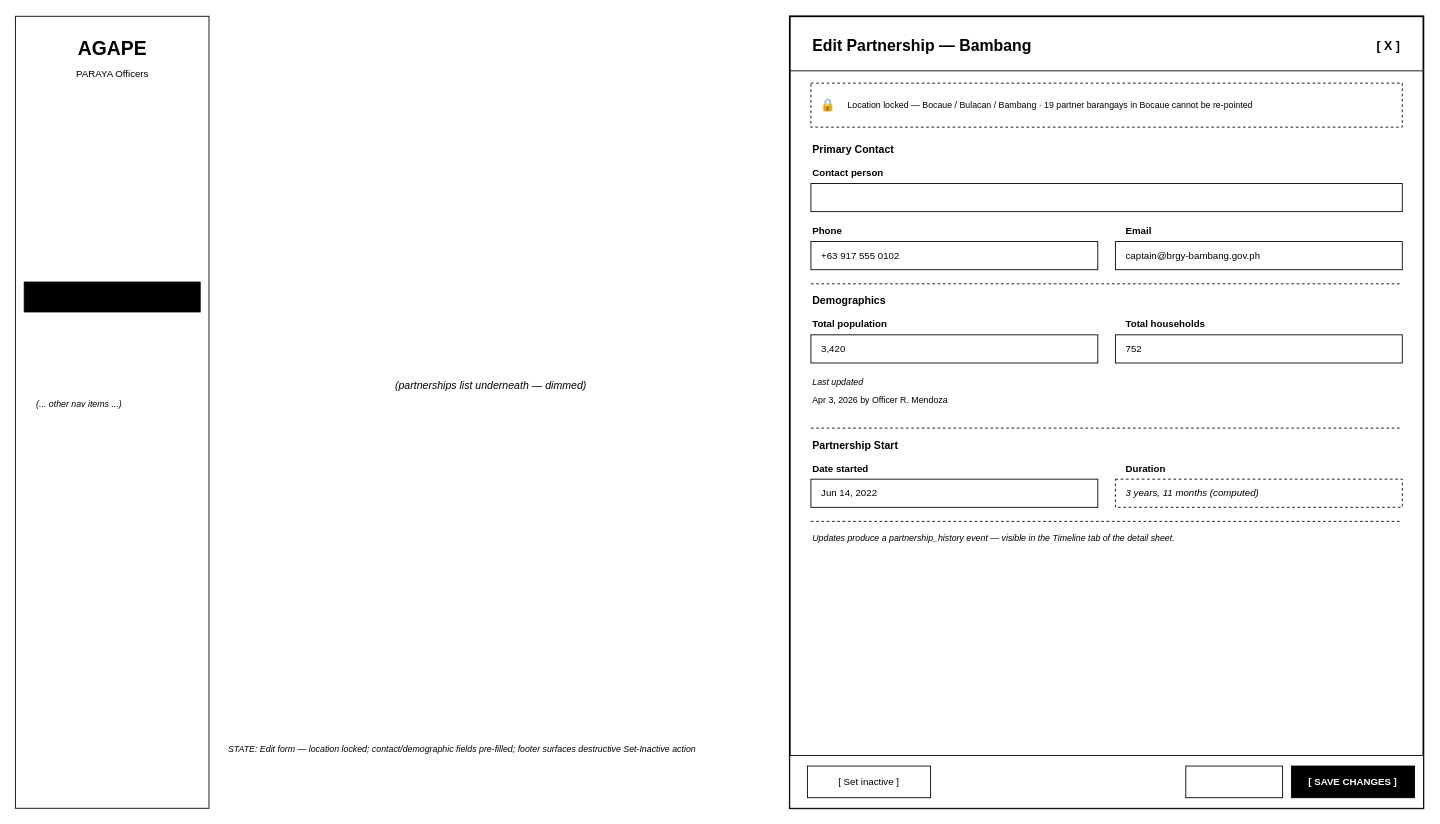
The diagram is 1440 pixels wide and 824 high, and some of its shapes have lost their labels. Here are the shapes that lost their labels. From the top down, the centre of each, then its label:
At point (1106, 197): "Cap. Maria Reyes".
At point (111, 296): "[x] Partnerships".
At point (1234, 781): "[ CANCEL ]".
